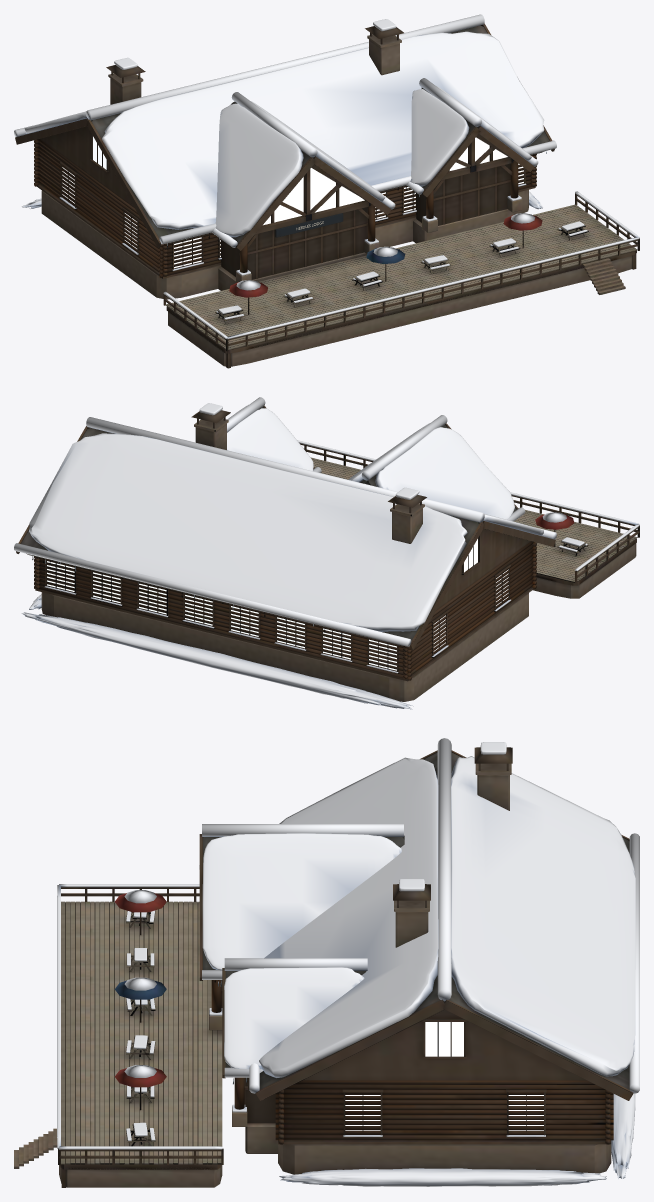
Rendered from needles_lodge.glb.
3 renders of one model, top to bottom at view 1: azimuth 30°, elevation 25°; view 2: azimuth 150°, elevation 25°; view 3: azimuth 270°, elevation 25°, orthographic. The views are drawn at different scales.
Parts seen in each view (by area): view 1: needles_lodge, needles_lodge_snow, needles_lodge_lit; view 2: needles_lodge_snow, needles_lodge, needles_lodge_lit; view 3: needles_lodge_snow, needles_lodge, needles_lodge_lit.
Part boxes in pixels (x1,y1,x2,y2): needles_lodge: (15, 23, 639, 368); needles_lodge_snow: (14, 14, 639, 339); needles_lodge_lit: (62, 136, 523, 268); needles_lodge_snow: (14, 397, 639, 709); needles_lodge: (16, 405, 639, 701); needles_lodge_lit: (47, 539, 508, 670); needles_lodge_snow: (57, 738, 639, 1186); needles_lodge: (14, 747, 633, 1187); needles_lodge_lit: (345, 1022, 543, 1130).
Bounding box in the file's own units: 38.24 × 15.81 × 38.31.
4 materials, 1 textured.
